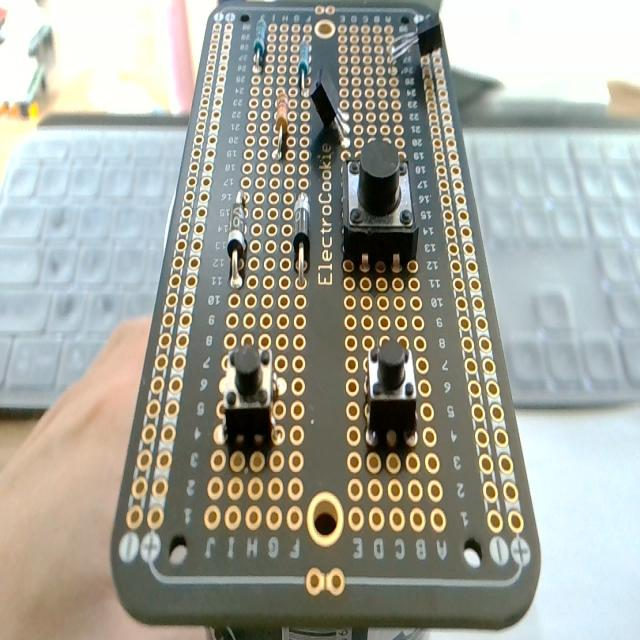diode: (288, 187, 316, 297), (223, 177, 249, 288)
resistor: (276, 82, 294, 172), (293, 31, 311, 106), (253, 10, 269, 82)
switch: (339, 138, 421, 272), (361, 332, 426, 441), (223, 345, 277, 435)
transistor: (382, 11, 448, 72), (310, 63, 350, 156)
